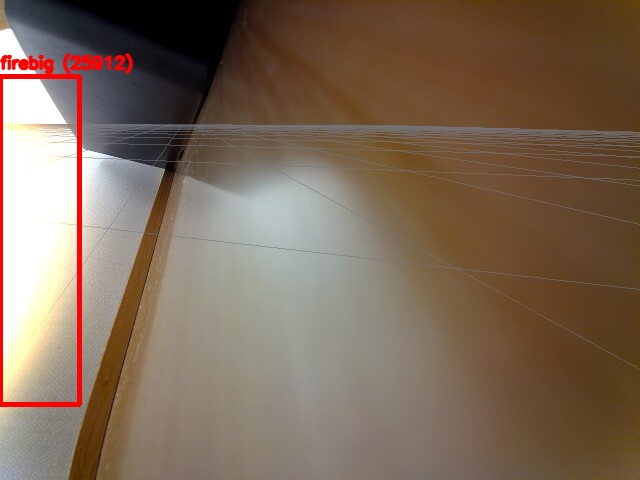firebig: (0, 76, 79, 404)
